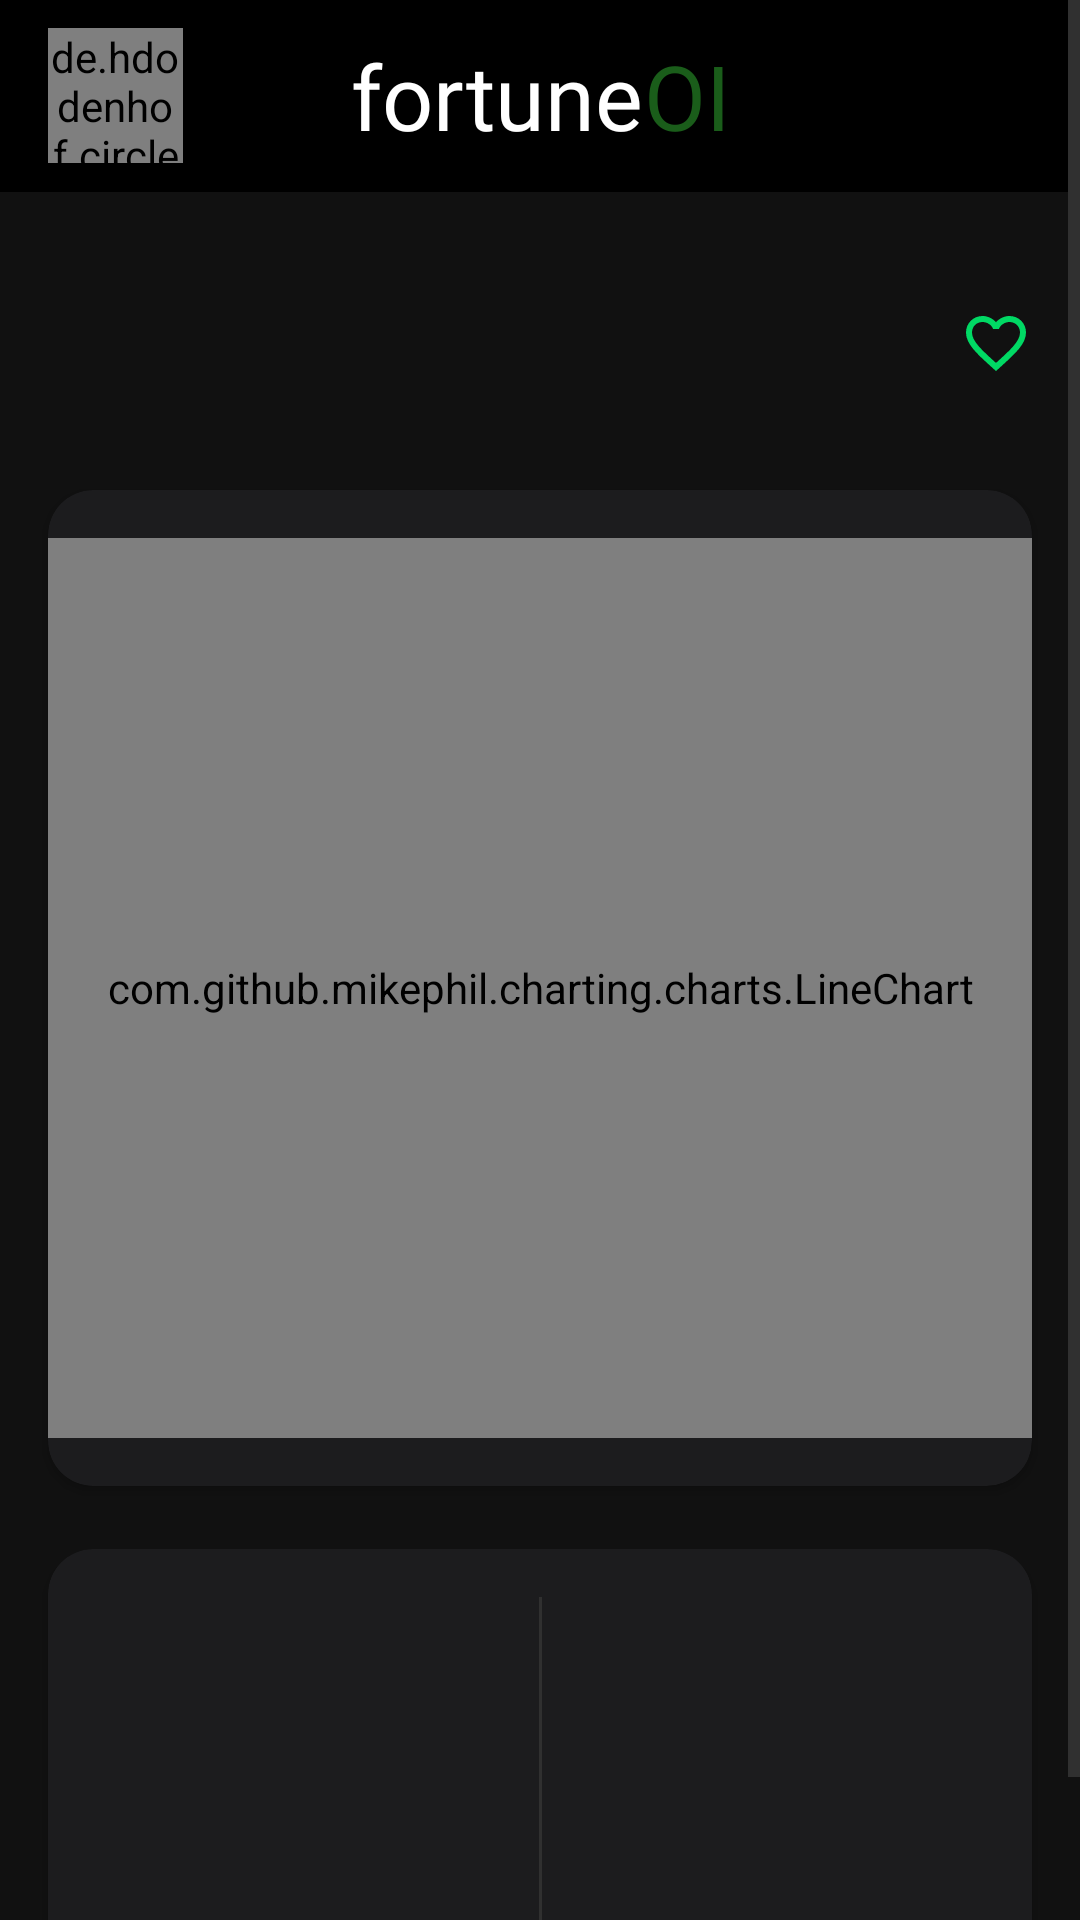

Screen size 1080x1920. Icon name, then its center in pixels as (x=x, y=y):
favorites: (x=996, y=343)
